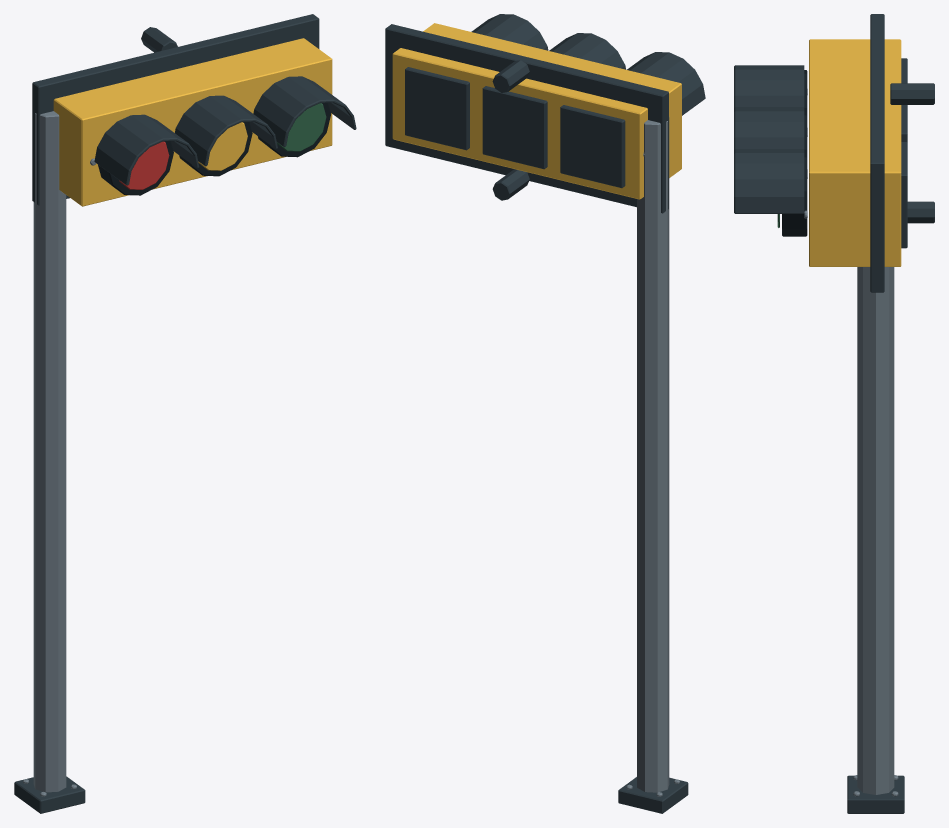
The model's file is b02_horizontal_traffic_signal.glb.
3 views of the same model, side by side, from view 1: azimuth 30°, elevation 25°; view 2: azimuth 150°, elevation 25°; view 3: azimuth 270°, elevation 25° (orthographic). The views are drawn at different scales.
Parts seen in each view (by area): view 1: b02_horizontal_traffic_signal; view 2: b02_horizontal_traffic_signal; view 3: b02_horizontal_traffic_signal.
Boxes of the visible parts, bbox=[...] form: b02_horizontal_traffic_signal: bbox=[14, 14, 356, 813]; b02_horizontal_traffic_signal: bbox=[385, 14, 705, 813]; b02_horizontal_traffic_signal: bbox=[734, 14, 934, 813].
Size of the model in its own units: 1.14 by 2.72 by 0.63.
